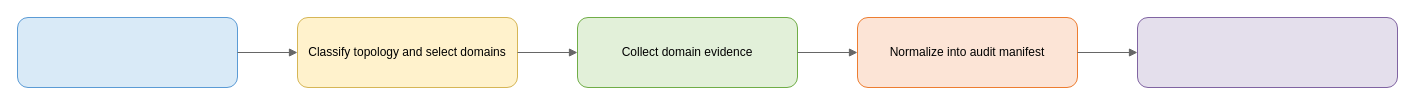
The diagram is 1415 pixels wide and 105 high, and some of its shapes have lost their labels. Each missing label, with the centre of its shape:
"Load config and resolve credentials" goes at (127,52).
"Render reports and diagrams from cached manifest" goes at (1267,52).
